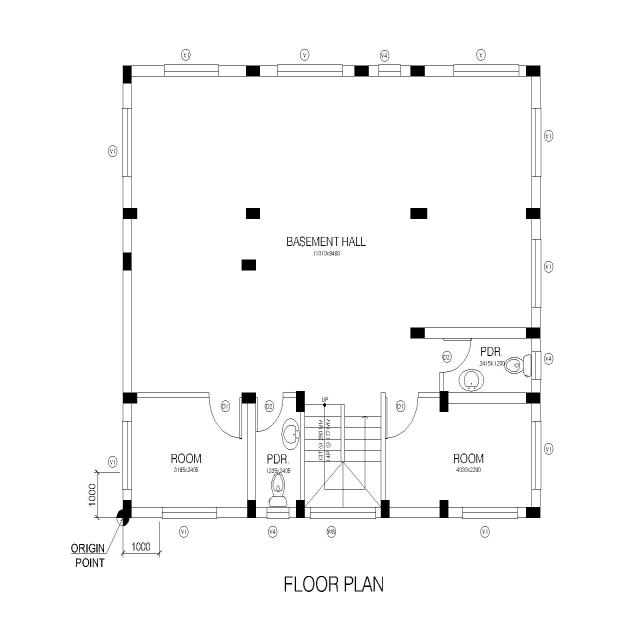Column: (410, 206, 428, 222), (438, 389, 449, 414), (295, 391, 306, 414), (409, 64, 427, 78), (240, 258, 258, 272), (525, 326, 541, 341), (353, 64, 370, 78), (524, 207, 542, 220), (240, 392, 258, 405), (245, 64, 261, 78), (525, 64, 541, 78), (525, 391, 541, 405), (245, 207, 261, 221), (122, 206, 138, 220), (122, 391, 138, 405), (122, 252, 133, 272), (122, 64, 132, 84), (410, 327, 426, 339)
Door: (256, 391, 286, 400), (438, 336, 444, 374), (208, 392, 242, 398), (385, 392, 419, 398)
Staircase: (303, 404, 383, 510)
Ventilator: (276, 64, 344, 78), (453, 64, 520, 78), (121, 106, 134, 178), (163, 63, 220, 79), (530, 420, 542, 492), (462, 506, 519, 520), (161, 506, 218, 520), (531, 237, 542, 309), (531, 107, 542, 178), (121, 420, 132, 490), (266, 506, 291, 520), (378, 64, 402, 78), (531, 350, 542, 380)
Window: (310, 506, 377, 520)
